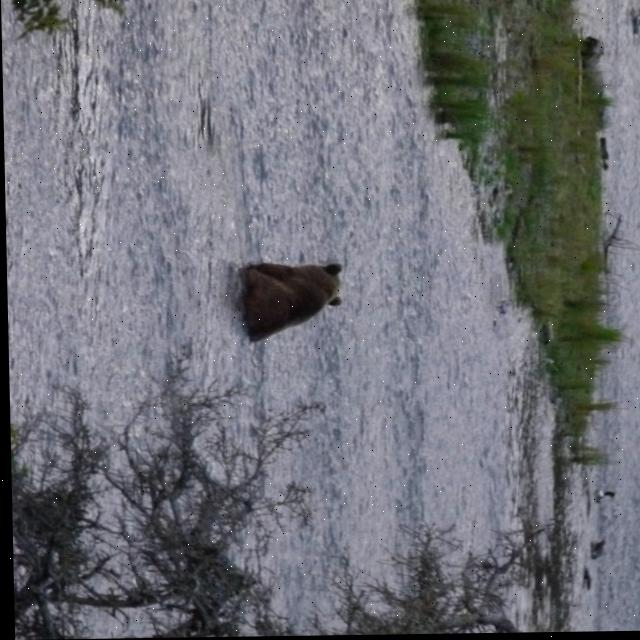bear face: (240, 262, 344, 343)
